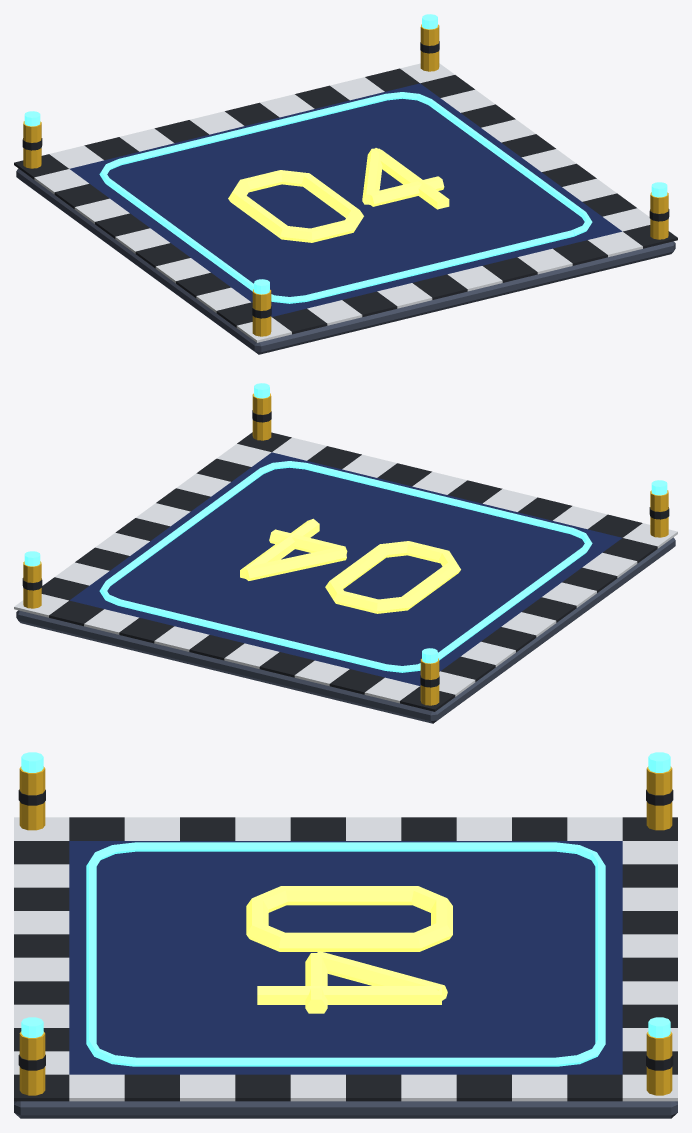
The model's file is JoinPad_04.fbx.
3 views of the same model, one above another, from view 1: azimuth 30°, elevation 25°; view 2: azimuth 150°, elevation 25°; view 3: azimuth 270°, elevation 25° (orthographic). The views are drawn at different scales.
Parts seen in each view (by area): view 1: JoinPad_04, Neon_Cyan, Neon_Yellow; view 2: JoinPad_04, Neon_Cyan, Neon_Yellow; view 3: JoinPad_04, Neon_Cyan, Neon_Yellow.
Boxes of the visible parts, x1,y1,x2,y2 form: JoinPad_04: (14,24,677,354); Neon_Cyan: (24,14,667,303); Neon_Yellow: (228,148,449,242); JoinPad_04: (14,393,677,723); Neon_Cyan: (24,383,667,672); Neon_Yellow: (240,518,460,613); JoinPad_04: (14,766,677,1118); Neon_Cyan: (21,752,670,1066); Neon_Yellow: (246,886,452,1013).
Bounding box in the file's own units: 18 × 2.75 × 18.
3 materials, 1 textured.
